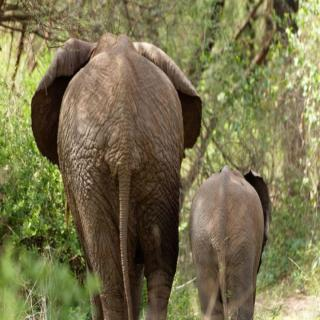Elephant: (28, 28, 203, 320), (186, 163, 274, 320)
